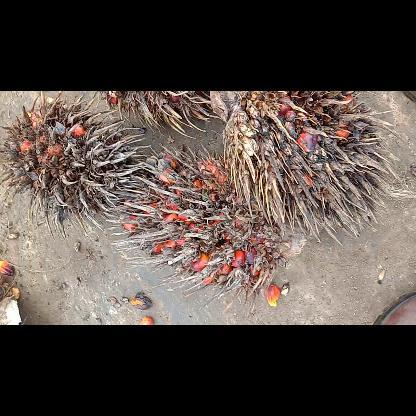Terlalu masak: (107, 138, 313, 314), (207, 91, 408, 247), (0, 90, 161, 242)
